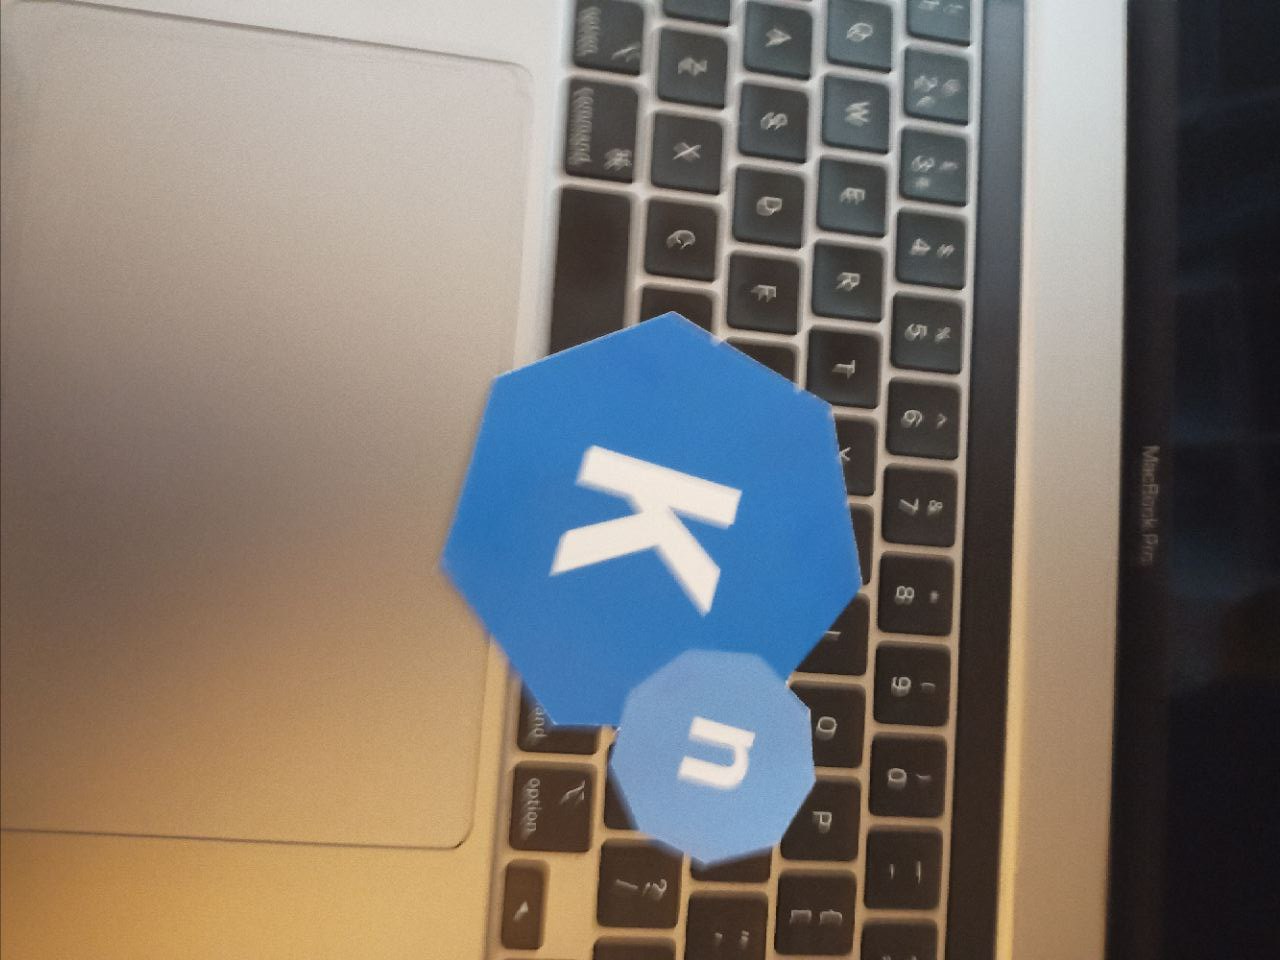knative: (440, 313, 869, 864)
